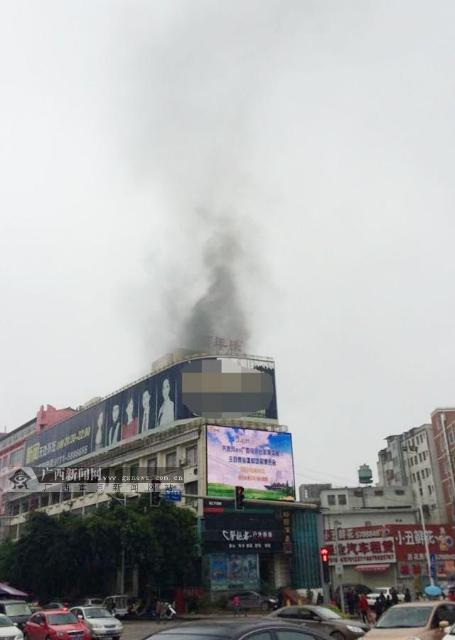smoke: (150, 273, 251, 349), (186, 182, 261, 266)
